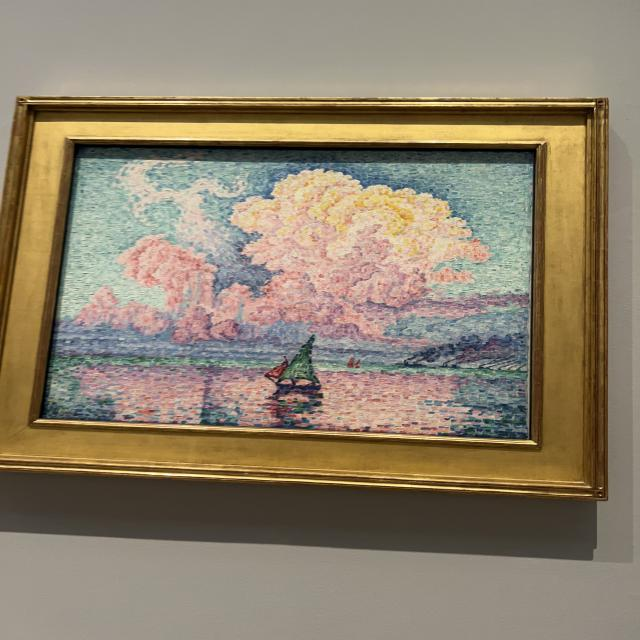sunrise: (47, 160, 531, 433)
